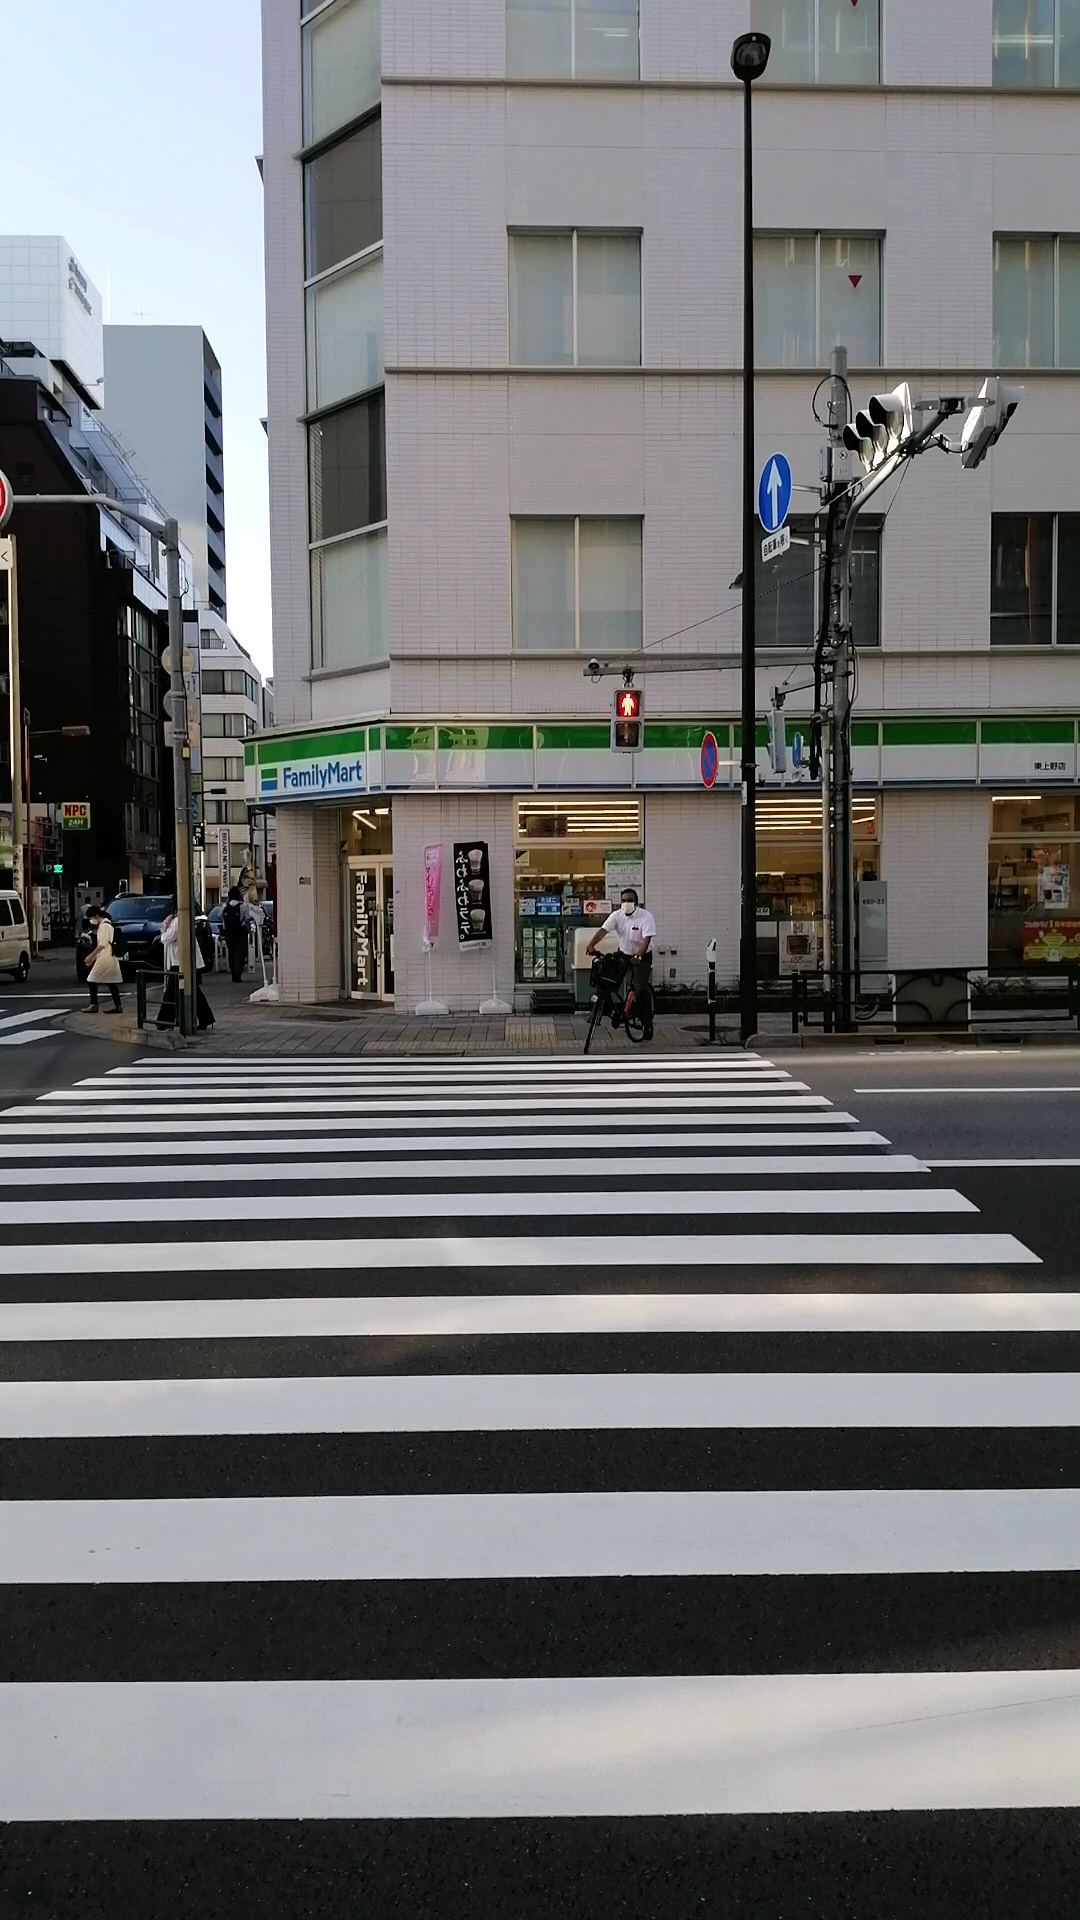red: (611, 688, 644, 756)
